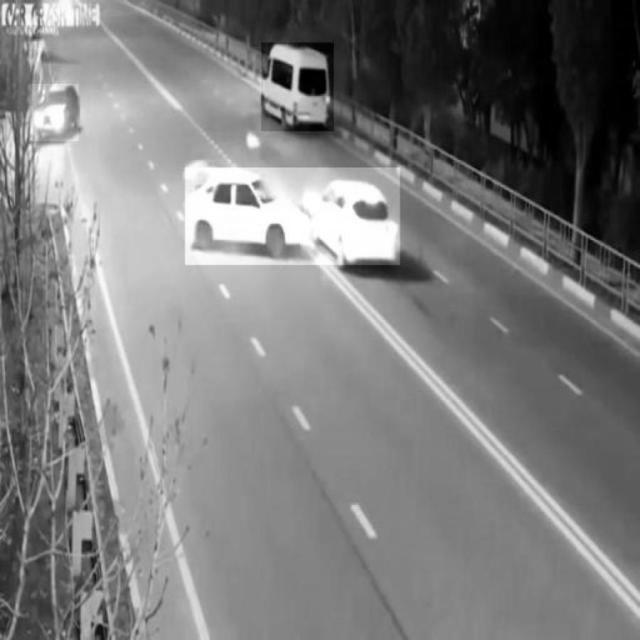accident: (185, 167, 400, 265)
vehicle: (261, 43, 333, 131), (29, 84, 79, 141)
